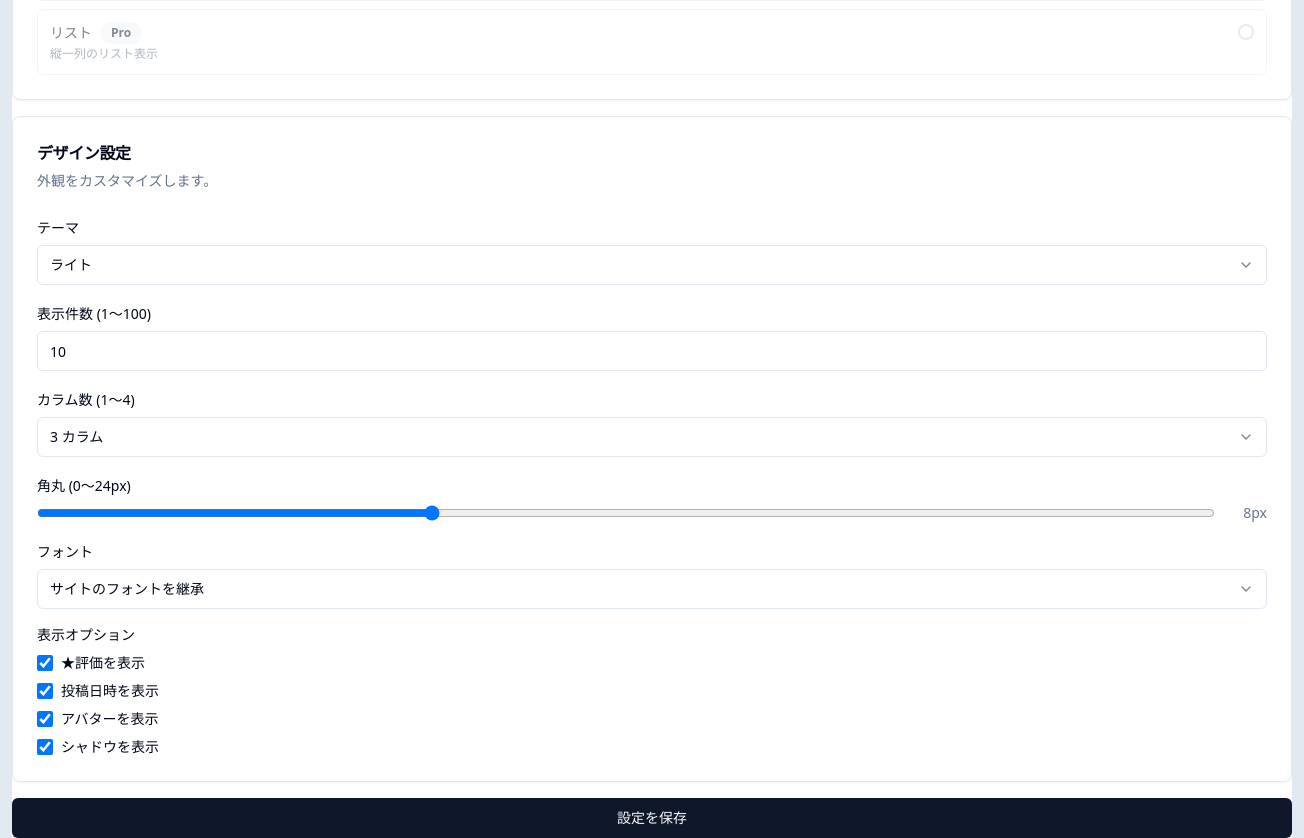
Scenario: WidgetConfigForm › 保存 › 保存中は「保存中...」と表示される
This screenshot has width=1304, height=838.
(page scrolled)
Click the button with test id "save-widget".
click(652, 818)  # box [12,798,1292,837]
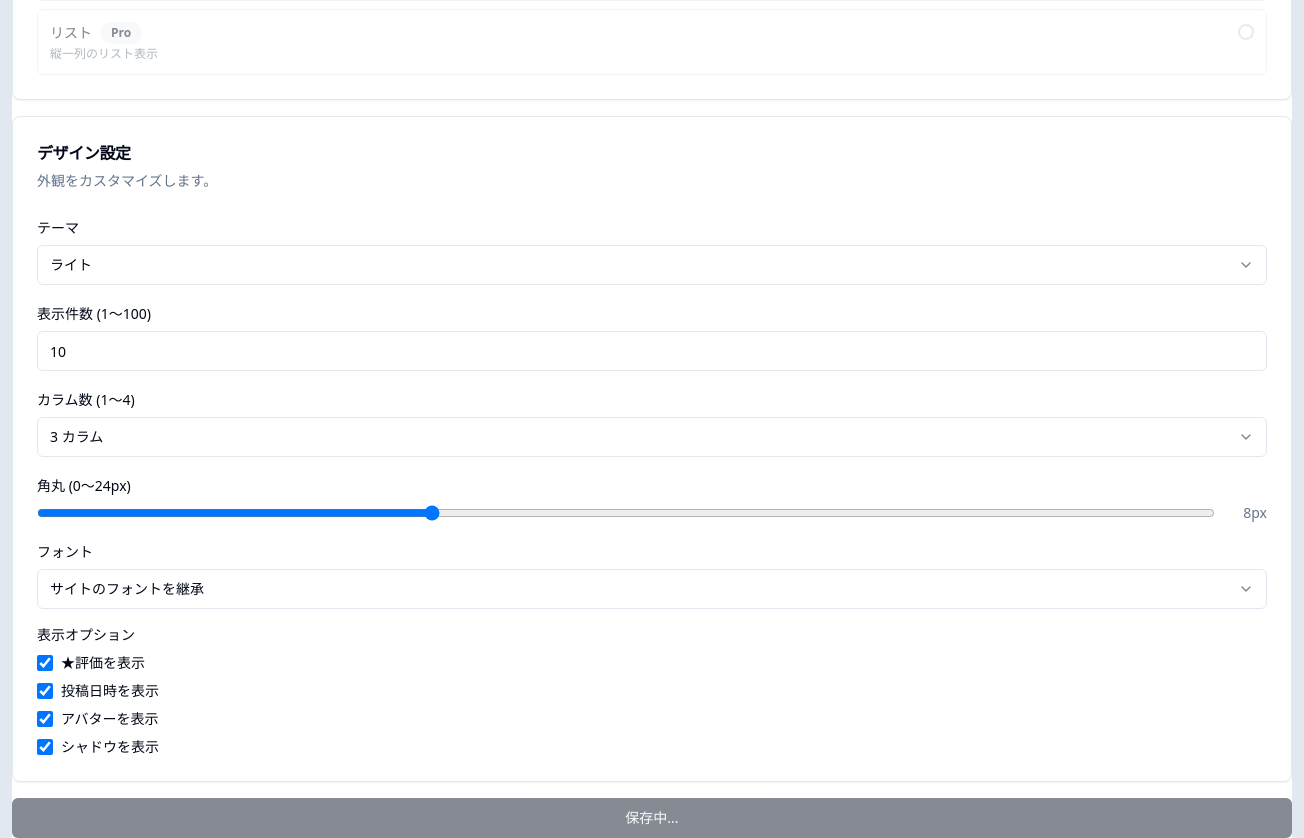
Result: the button "保存中..." is shown at [12,798,1292,837]
